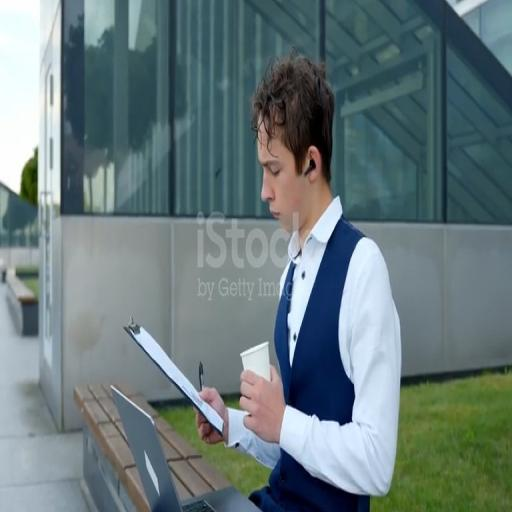earphone: (298, 149, 318, 185)
